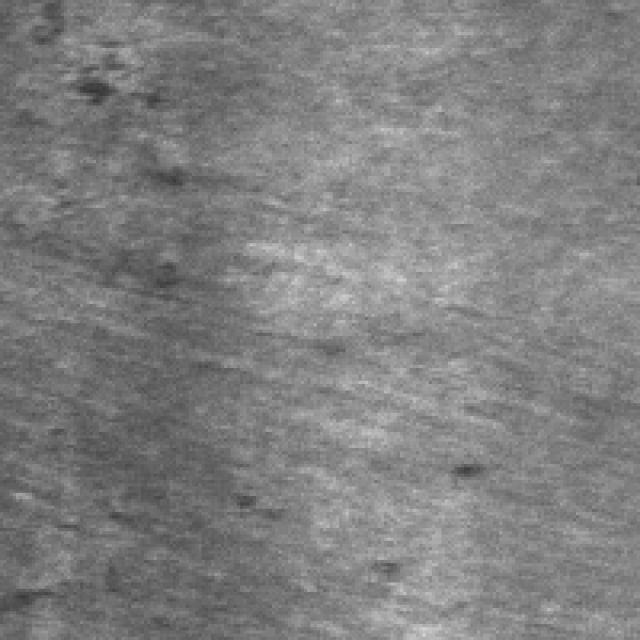rolled-in_scale: (29, 0, 160, 115)
